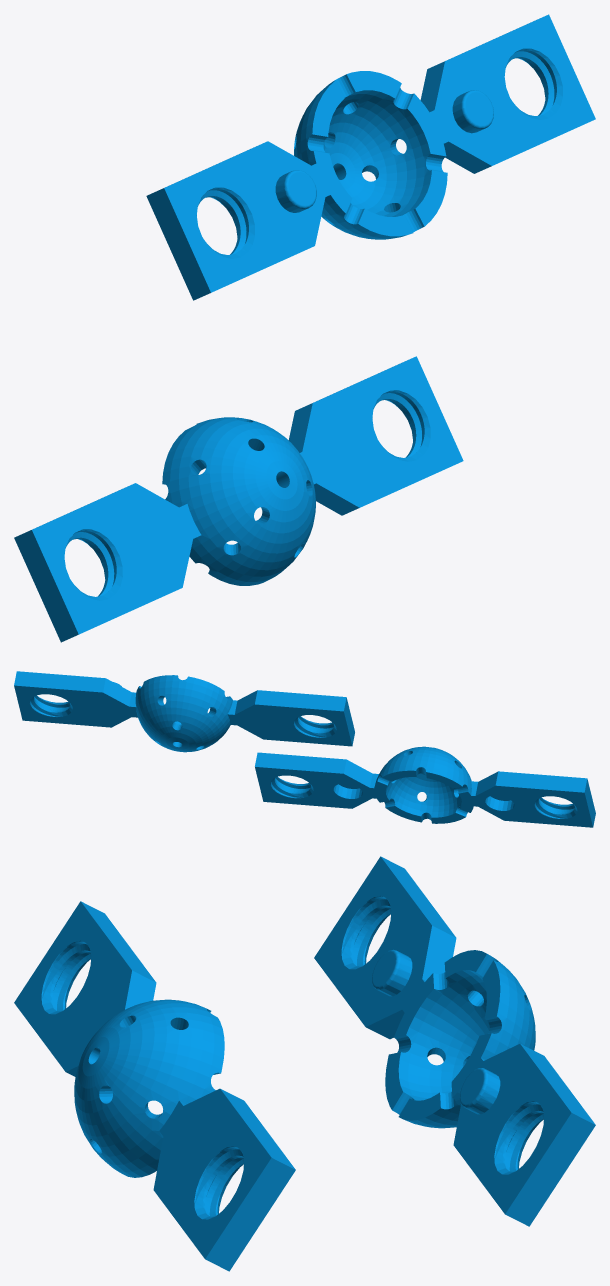
The model's file is coike-mold.glb.
The picture shows the model from 3 angles, top to bottom: view 1: azimuth 30°, elevation 25°; view 2: azimuth 150°, elevation 25°; view 3: azimuth 270°, elevation 25°; orthographic projection. The views are drawn at different scales.
Parts seen in each view (by area): view 1: big-coike-mold; view 2: big-coike-mold; view 3: big-coike-mold.
Part boxes in pixels (box(x1,y1,x2,y2)): big-coike-mold: box(14, 14, 595, 642); big-coike-mold: box(14, 671, 595, 827); big-coike-mold: box(14, 856, 595, 1271).
Size of the model in its own units: 154 by 61.02 by 93.82.
